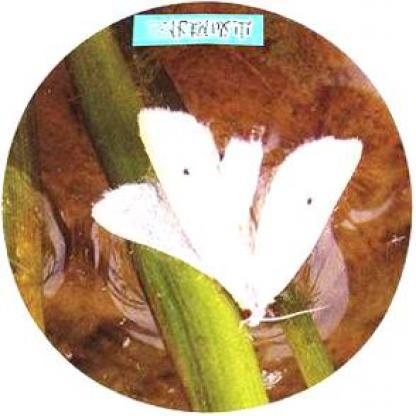stem-borer: (90, 107, 362, 330)
